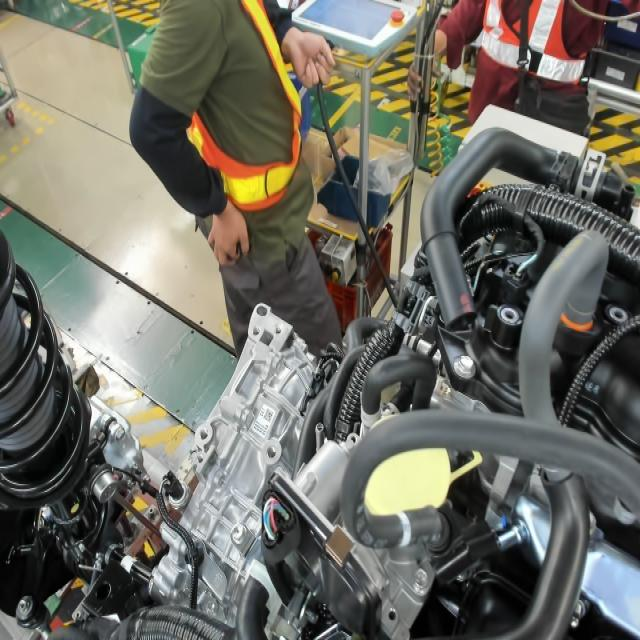Tube Sub Assy Fuel-W: (391, 505, 420, 552)
